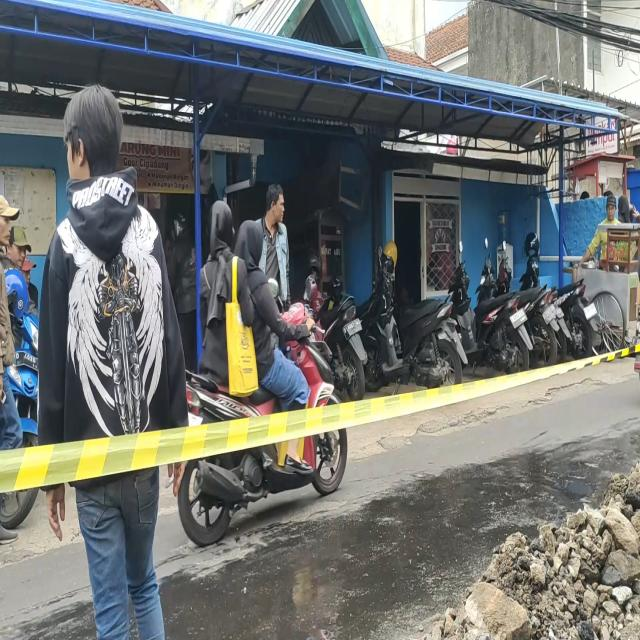no-helmet: (240, 223, 262, 269), (211, 203, 232, 246)
